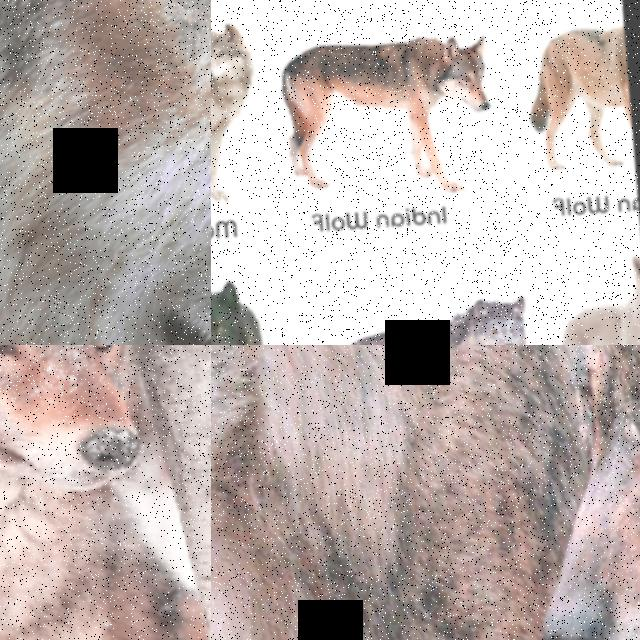wolf: (211, 345, 640, 640), (0, 0, 211, 345), (0, 345, 211, 640), (257, 9, 505, 208), (482, 345, 640, 640), (261, 260, 558, 345), (500, 0, 636, 185), (211, 0, 291, 234), (532, 253, 640, 345)
